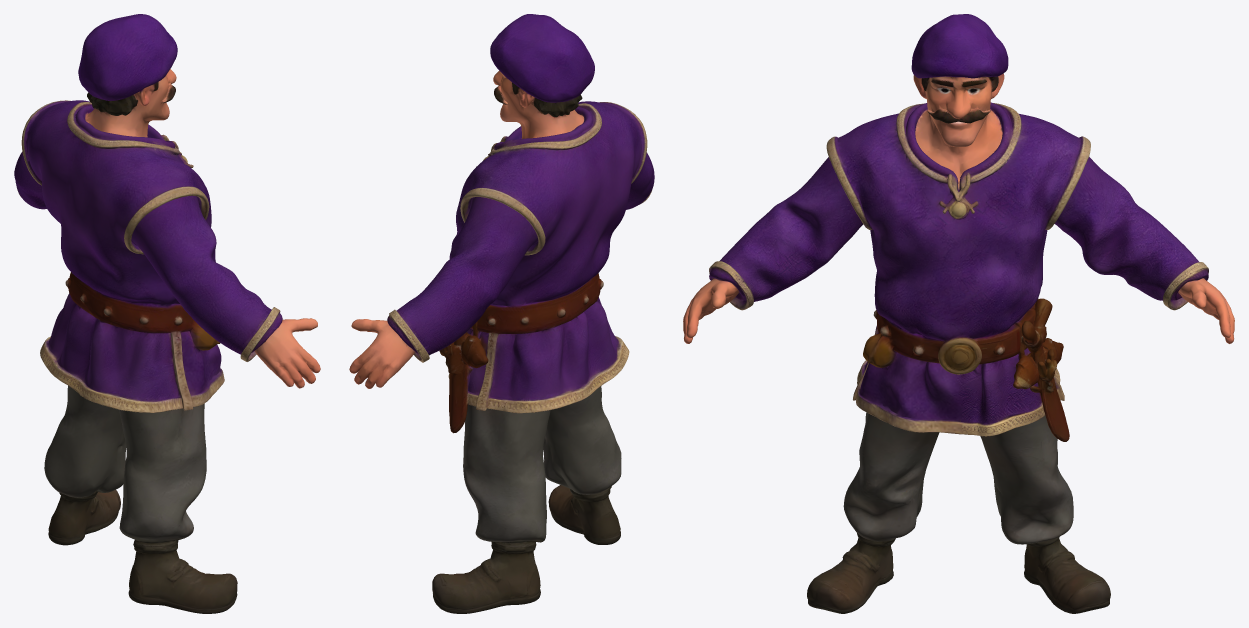
3 renders of one model, left to right at view 1: azimuth 30°, elevation 25°; view 2: azimuth 150°, elevation 25°; view 3: azimuth 270°, elevation 25°, orthographic. The views are drawn at different scales.
Parts seen in each view (by area): view 1: tripo_node_4db9d1e8-04cd-4dbc-83f3-6eac8e50a2d3; view 2: tripo_node_4db9d1e8-04cd-4dbc-83f3-6eac8e50a2d3; view 3: tripo_node_4db9d1e8-04cd-4dbc-83f3-6eac8e50a2d3.
Part boxes in pixels (x1,y1,x2,y2): tripo_node_4db9d1e8-04cd-4dbc-83f3-6eac8e50a2d3: (14, 14, 320, 613); tripo_node_4db9d1e8-04cd-4dbc-83f3-6eac8e50a2d3: (349, 14, 654, 613); tripo_node_4db9d1e8-04cd-4dbc-83f3-6eac8e50a2d3: (683, 14, 1234, 613).
Size of the model in its own units: 0.2662 by 1 by 0.8648.
Materials: 1 (1 with a texture image).
